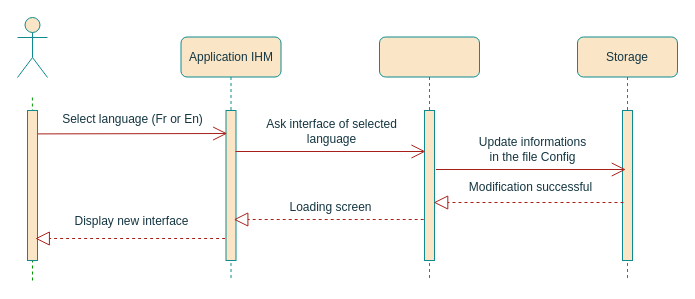
The diagram is 695 pixels wide and 299 high, and some of its shapes have lost their labels. The box of each missing label's shape, as (x1, y1, x2, y2) in pixels:
Application: (378, 36, 480, 280)
user: (16, 16, 48, 78)
